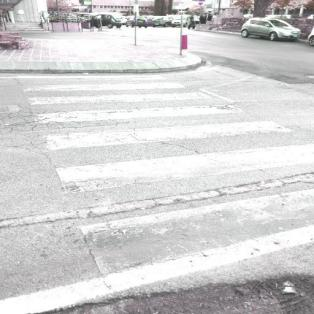Paso de Cebra: (29, 103, 297, 158)
